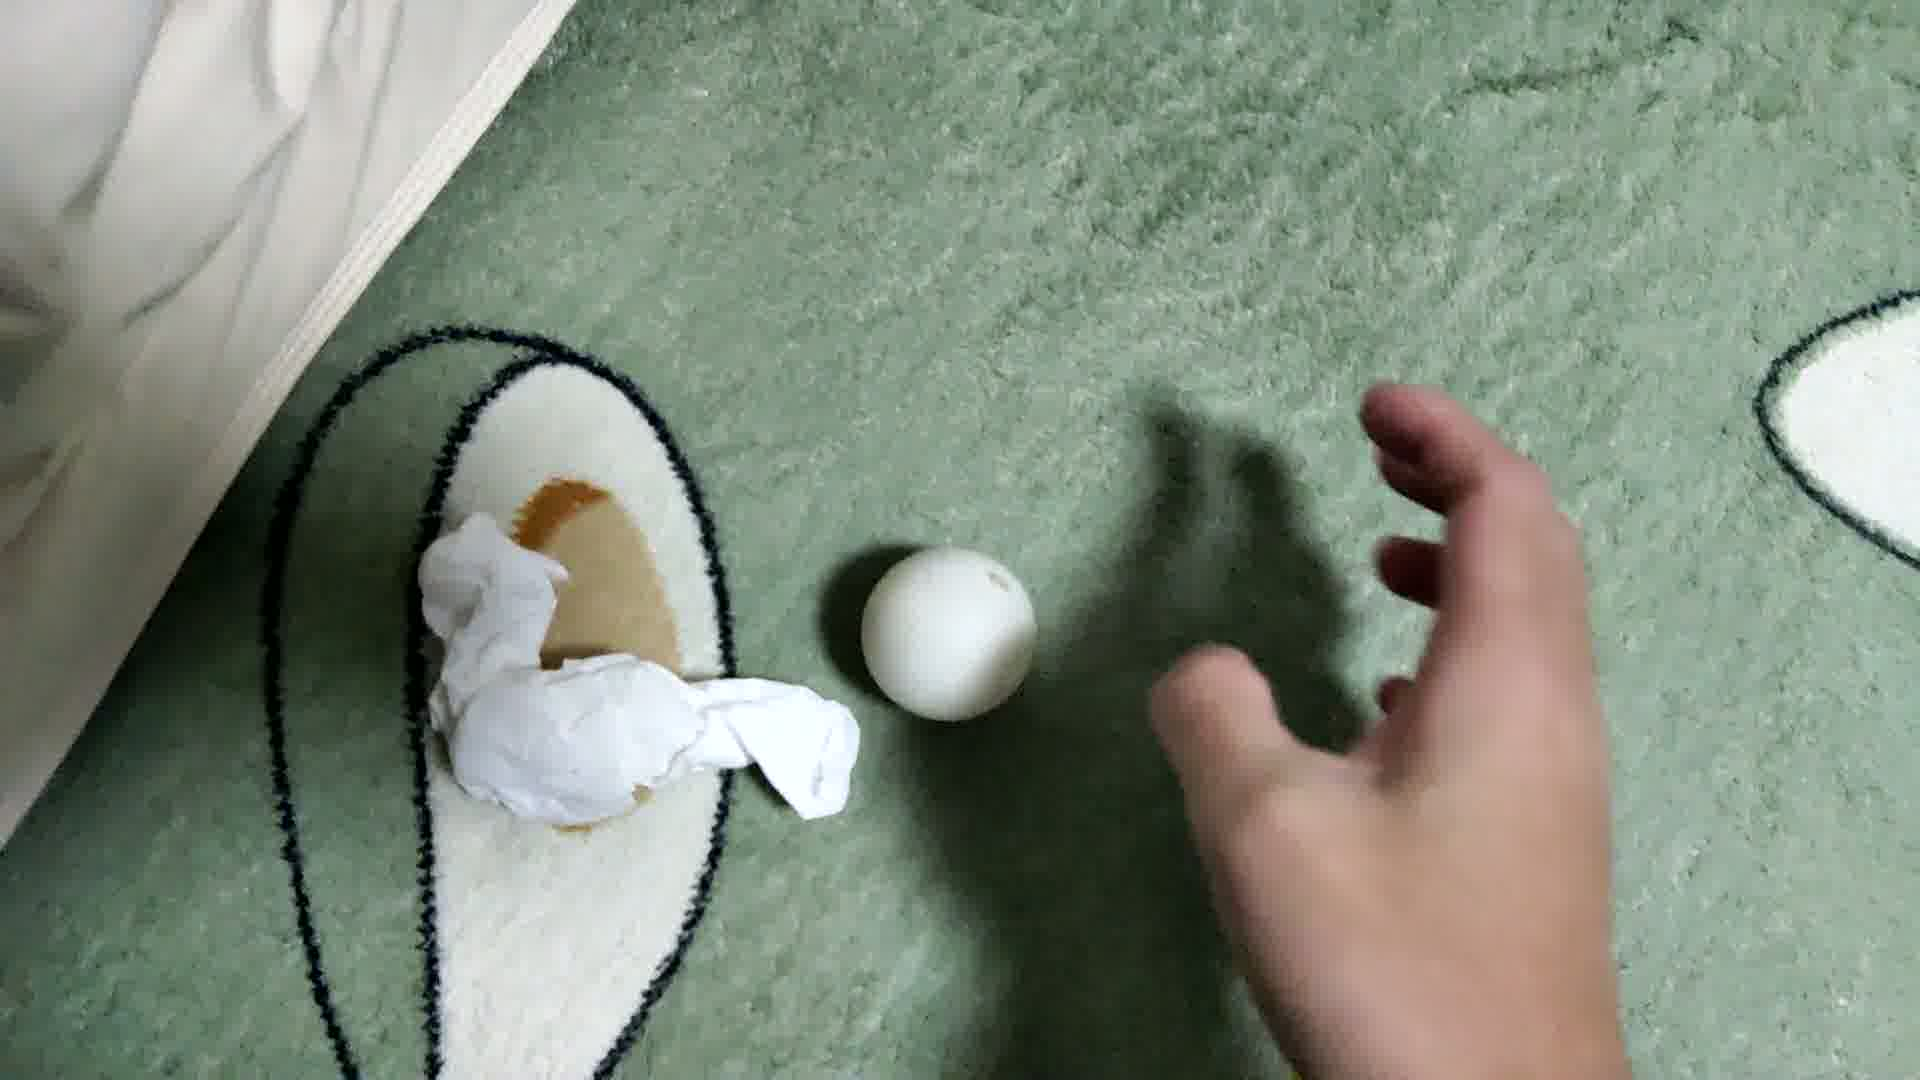Ball: (858, 545, 1035, 724)
